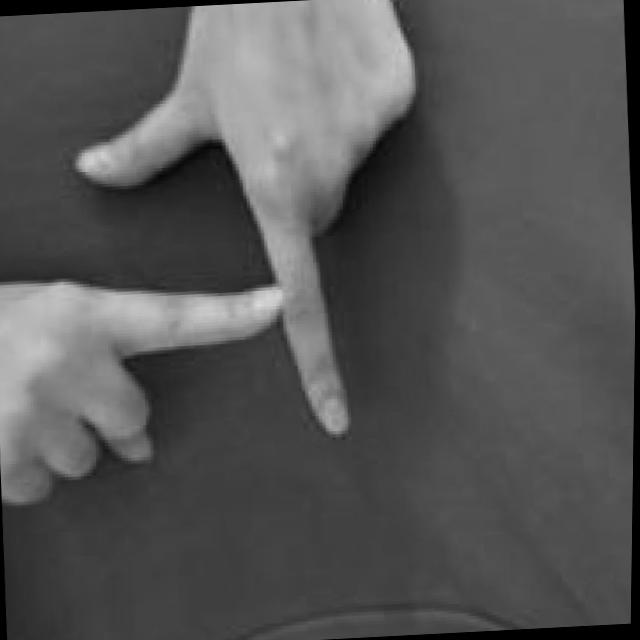F: (0, 0, 438, 509)
